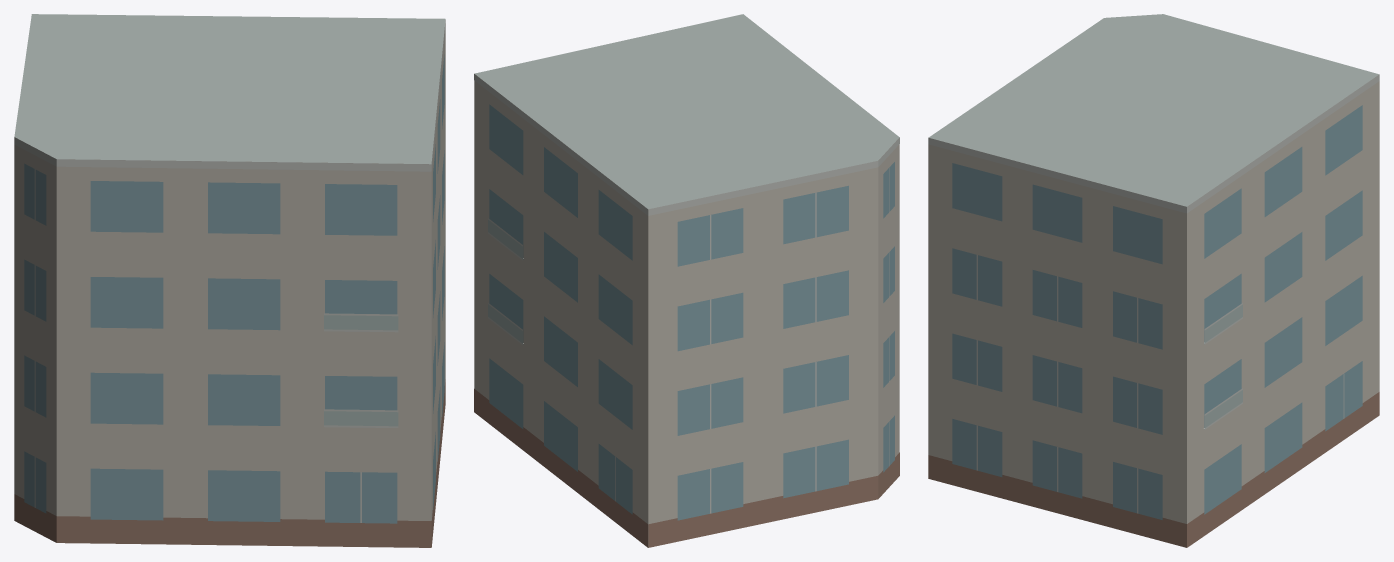
The model's file is survey-upis-32948367.glb.
3 renders of one model, left to right at view 1: azimuth 30°, elevation 25°; view 2: azimuth 150°, elevation 25°; view 3: azimuth 270°, elevation 25°, orthographic. The views are drawn at different scales.
Parts seen in each view (by area): view 1: survey-upis-32948367.tmp; view 2: survey-upis-32948367.tmp; view 3: survey-upis-32948367.tmp.
Boxes of the visible parts, bbox=[...] form: survey-upis-32948367.tmp: bbox=[14, 14, 445, 547]; survey-upis-32948367.tmp: bbox=[474, 14, 899, 547]; survey-upis-32948367.tmp: bbox=[928, 14, 1379, 547].
Bounding box in the file's own units: 15.16 × 12.5 × 14.99.
